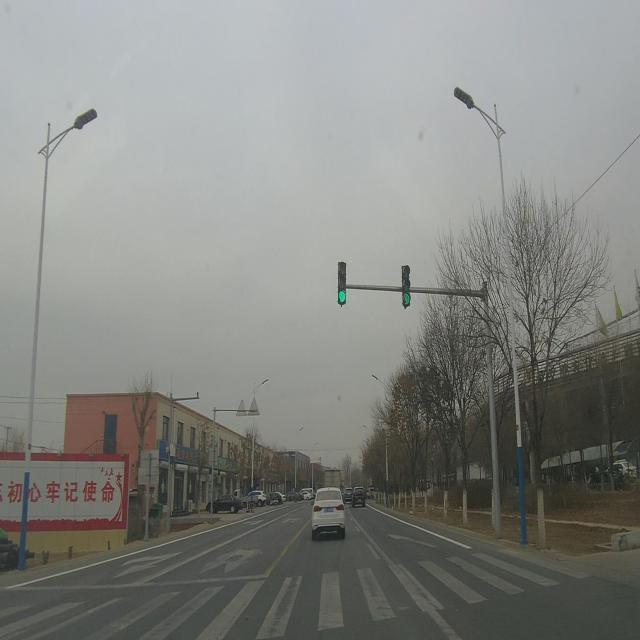car: (309, 486, 343, 537)
green_light: (336, 259, 344, 304)
